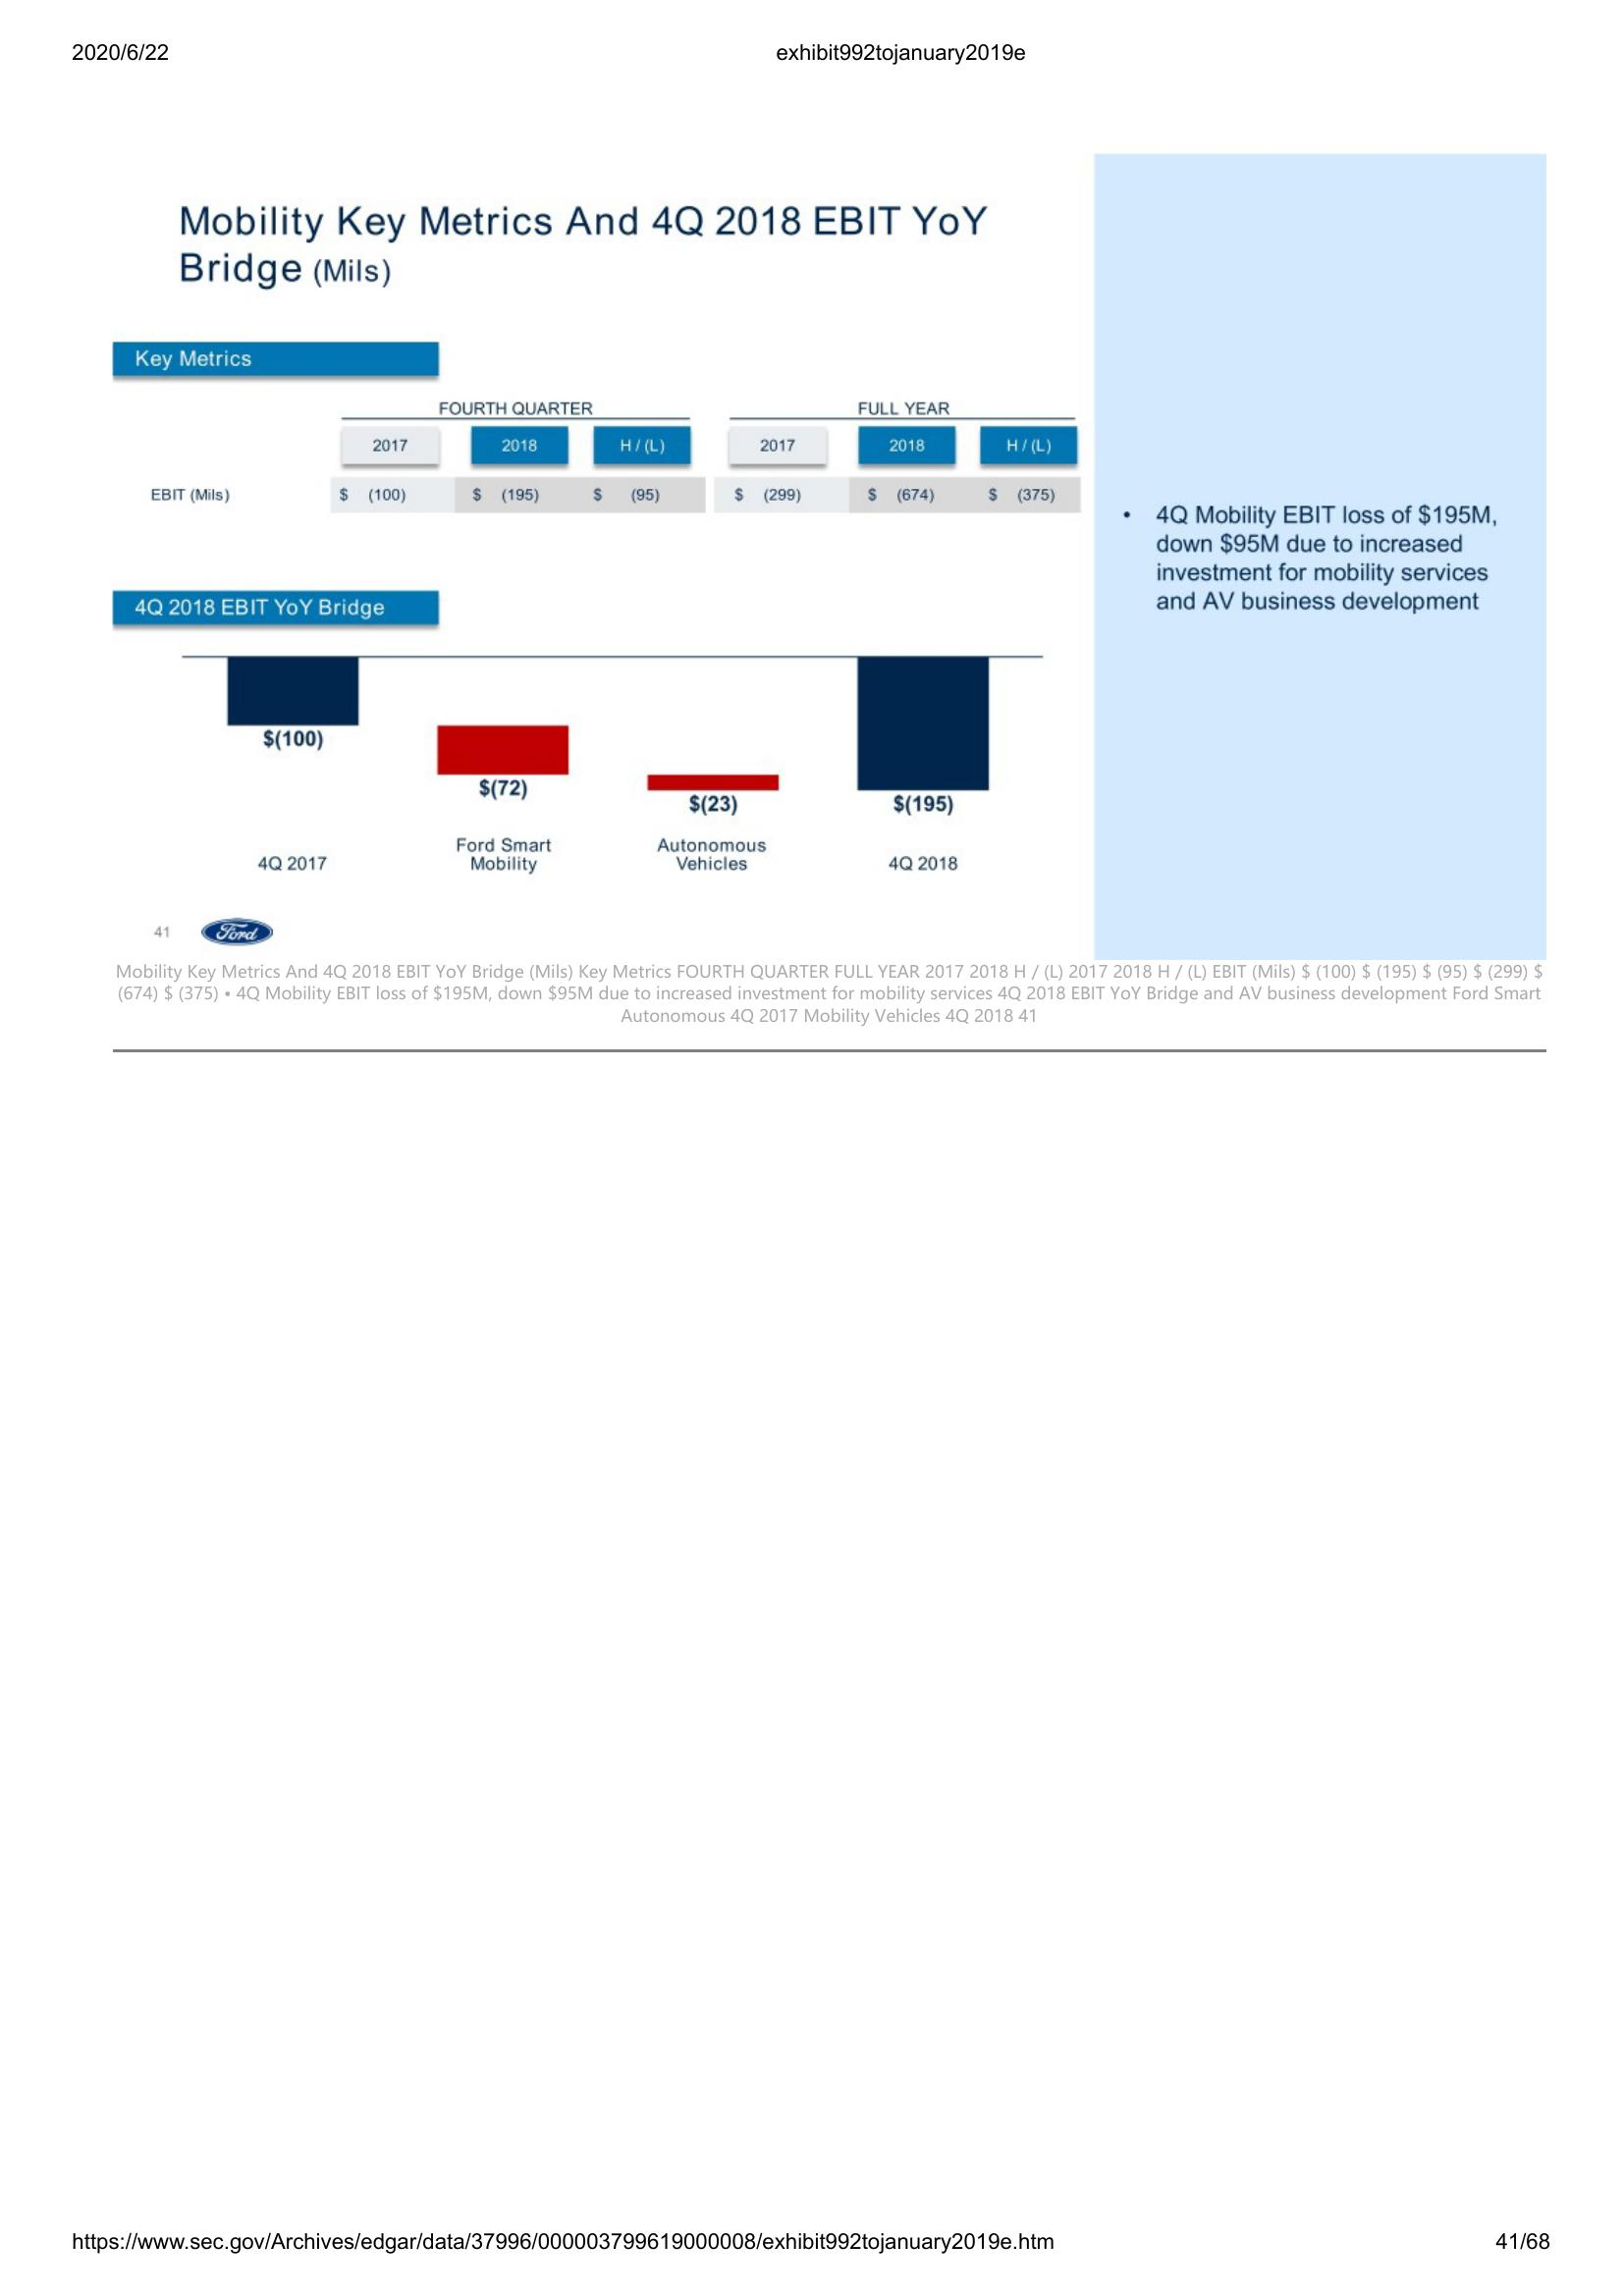table: (155, 393, 1080, 520)
